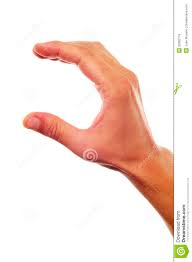hand: (21, 21, 162, 176)
